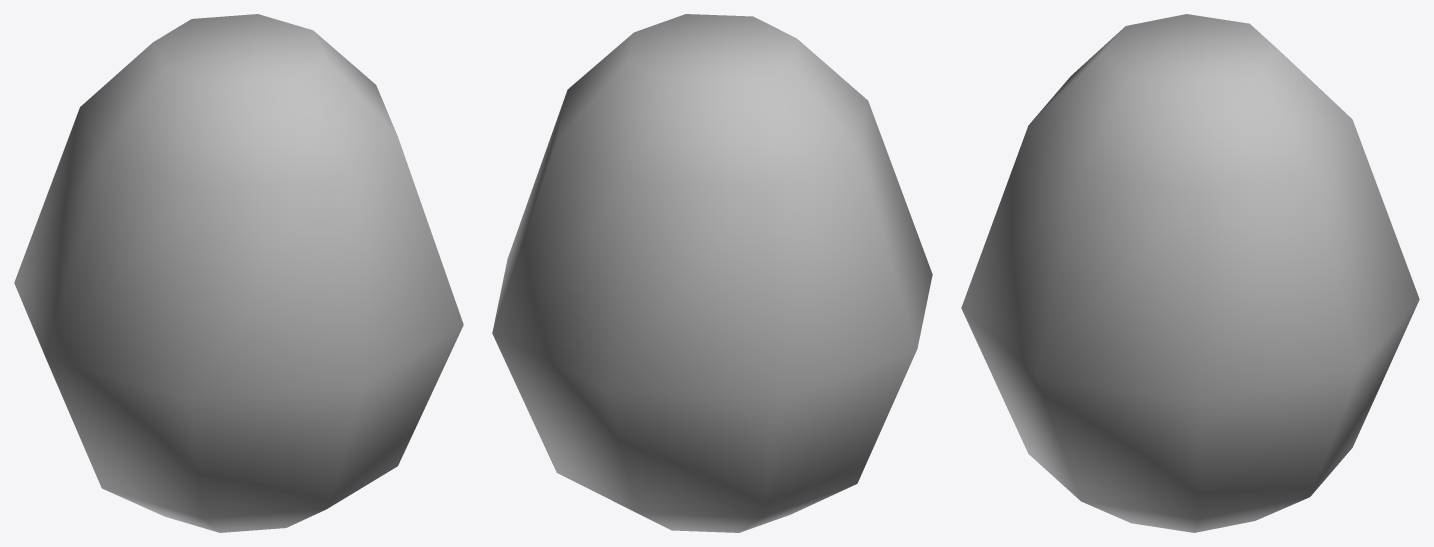
File: lamp.gltf
3 renders of one model, left to right at view 1: azimuth 30°, elevation 25°; view 2: azimuth 150°, elevation 25°; view 3: azimuth 270°, elevation 25°, orthographic.
Parts seen in each view (by area): view 1: Object_8.001; view 2: Object_8.001; view 3: Object_8.001.
Part boxes in pixels (x1,y1,x2,y2): Object_8.001: [14, 14, 463, 532]; Object_8.001: [492, 14, 932, 532]; Object_8.001: [961, 14, 1419, 532].
Size of the model in its own units: 0.361 by 0.4002 by 0.361.
Materials: 1 (1 with a texture image).
